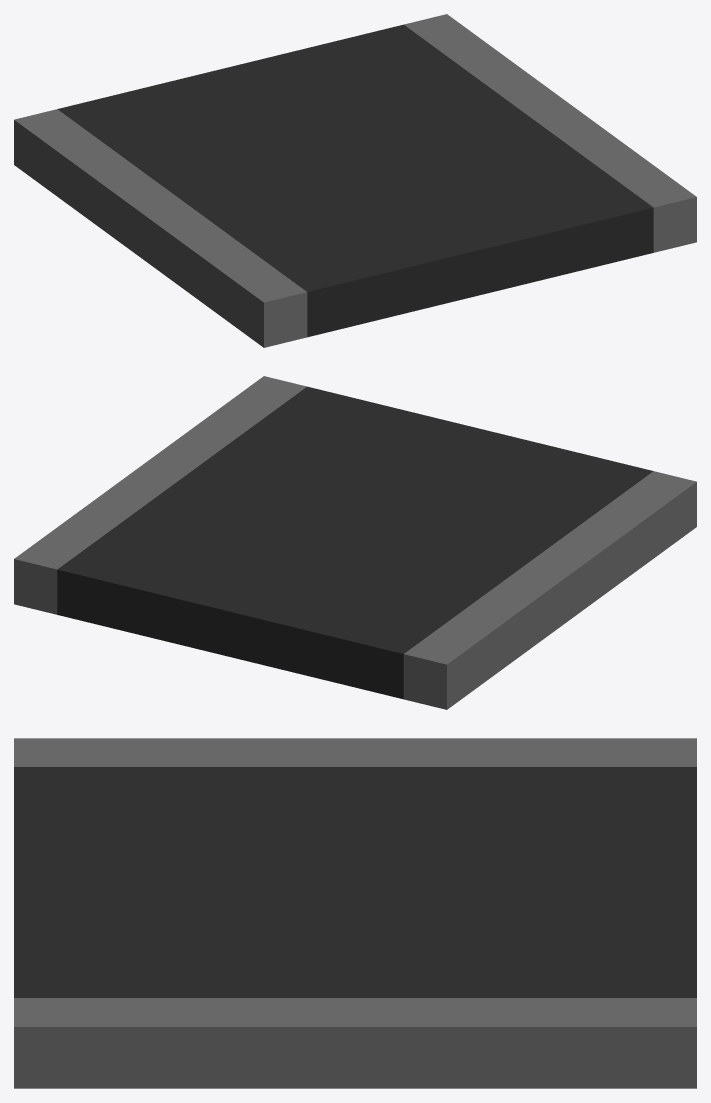
The model's file is road_straight.fbx.
The picture shows the model from 3 angles, top to bottom: view 1: azimuth 30°, elevation 25°; view 2: azimuth 150°, elevation 25°; view 3: azimuth 270°, elevation 25°; orthographic projection. The views are drawn at different scales.
Parts seen in each view (by area): view 1: road_straight; view 2: road_straight; view 3: road_straight.
Part boxes in pixels (x1,y1,x2,y2): road_straight: (14,14,696,347); road_straight: (14,376,696,709); road_straight: (14,738,696,1088).
Bounding box in the file's own units: 100 × 10 × 100.
Materials: 1 (1 with a texture image).
